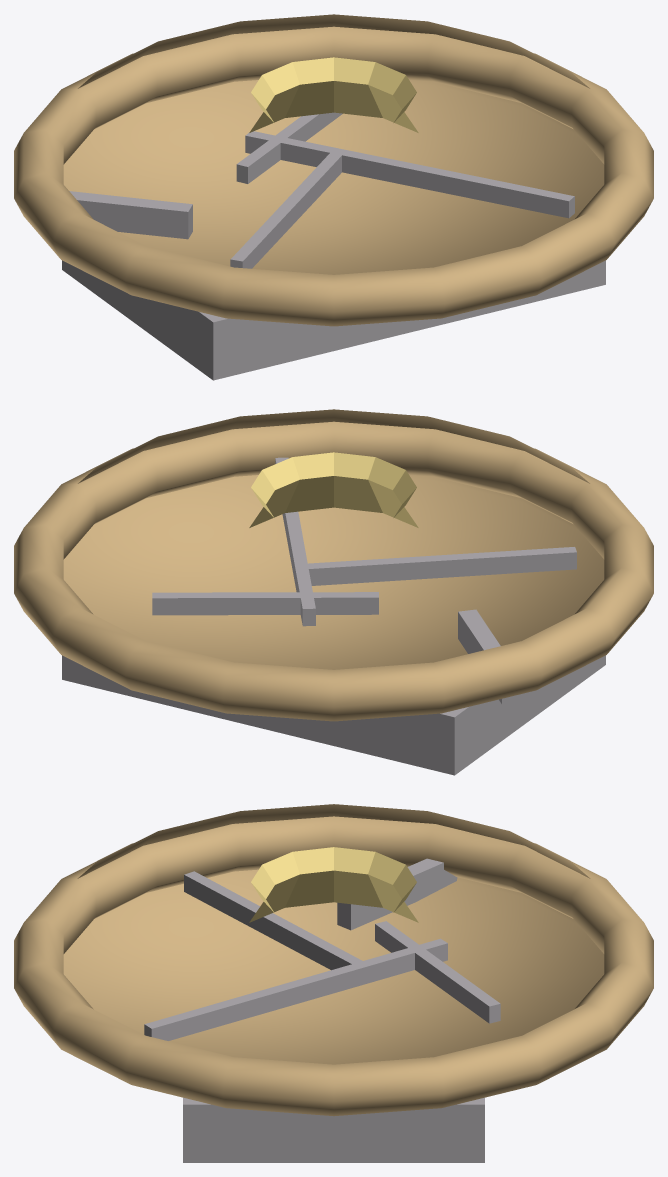
File: mythic-underworld-and-olympus-cracked-shield-3ffd45af__21405.glb
The picture shows the model from 3 angles, top to bottom: view 1: azimuth 30°, elevation 25°; view 2: azimuth 150°, elevation 25°; view 3: azimuth 270°, elevation 25°; orthographic projection.
Visible parts, largest first — view 1: cracked-shield; view 2: cracked-shield; view 3: cracked-shield.
Part boxes in pixels (bbox=[...]): cracked-shield: bbox=[14, 14, 653, 380]; cracked-shield: bbox=[14, 409, 653, 775]; cracked-shield: bbox=[14, 804, 653, 1162].
Bounding box in the file's own units: 3.44 × 1.08 × 3.39.
